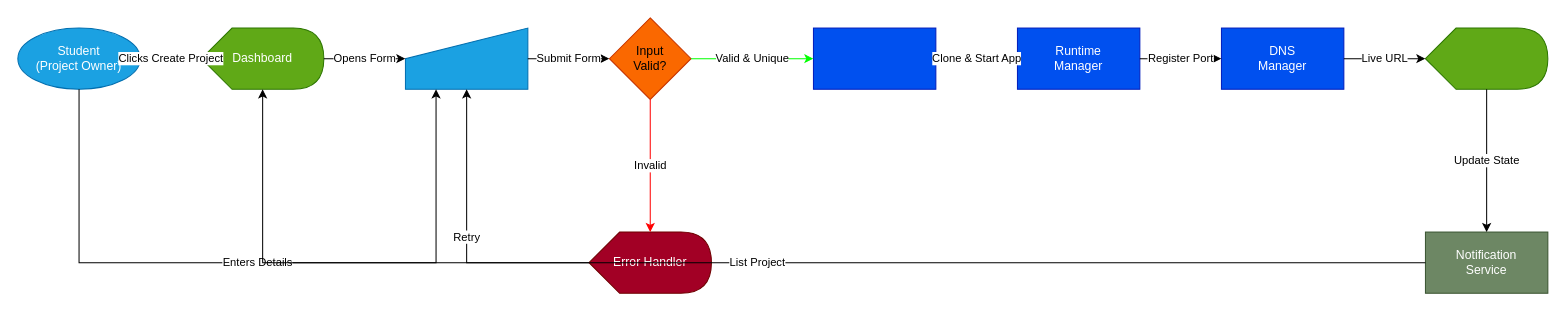
This 1566x311 diagram has some shape labels left out. The shapes that lost their labels are listed below. From the top down, each one's box as (x1, y1, x2, y2) in pixels, then its label:
(404, 27, 528, 89): Create Project Modal
(812, 27, 936, 89): Orchestrator (Provisioning)
(1424, 27, 1548, 89): Deployment Status
